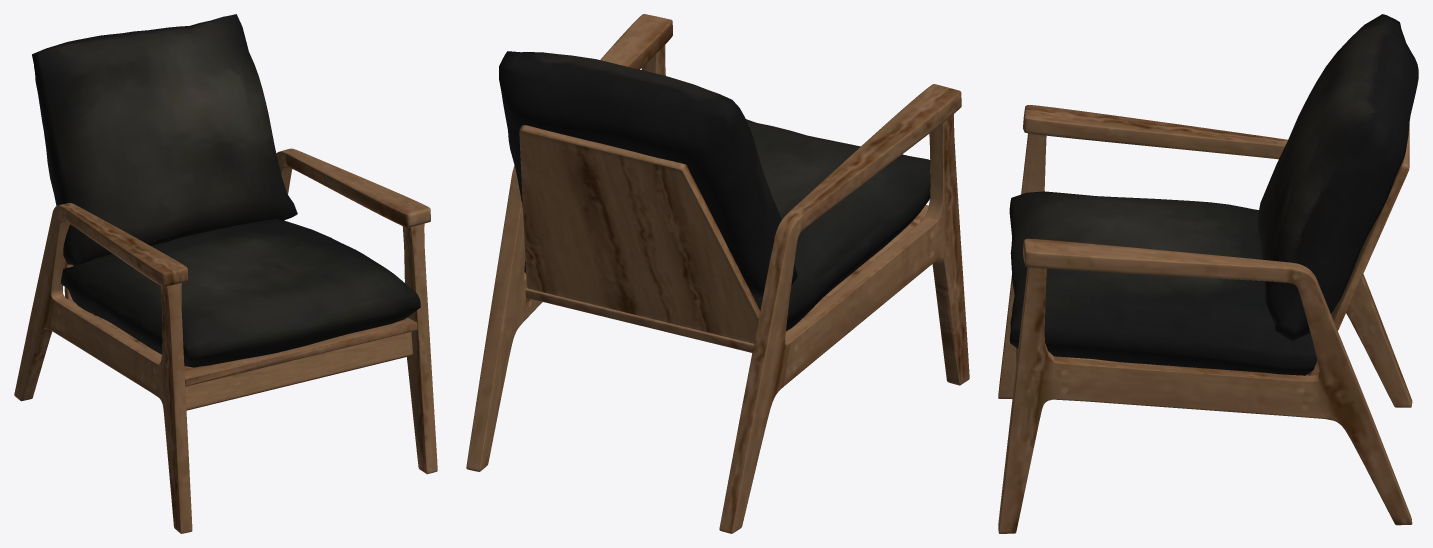
Rendered from modern_arm_chair_01.glb.
3 renders of one model, left to right at view 1: azimuth 30°, elevation 25°; view 2: azimuth 150°, elevation 25°; view 3: azimuth 270°, elevation 25°, orthographic. The views are drawn at different scales.
Visible parts, largest first — view 1: modern_arm_chair_01; view 2: modern_arm_chair_01; view 3: modern_arm_chair_01.
Part boxes in pixels (x1=…): modern_arm_chair_01: x1=14, y1=14, x2=437, y2=533; modern_arm_chair_01: x1=466, y1=14, x2=969, y2=533; modern_arm_chair_01: x1=998, y1=14, x2=1418, y2=533.
Size of the model in its own units: 0.8203 by 1.02 by 0.9865.
Materials: 2 (2 with a texture image).
